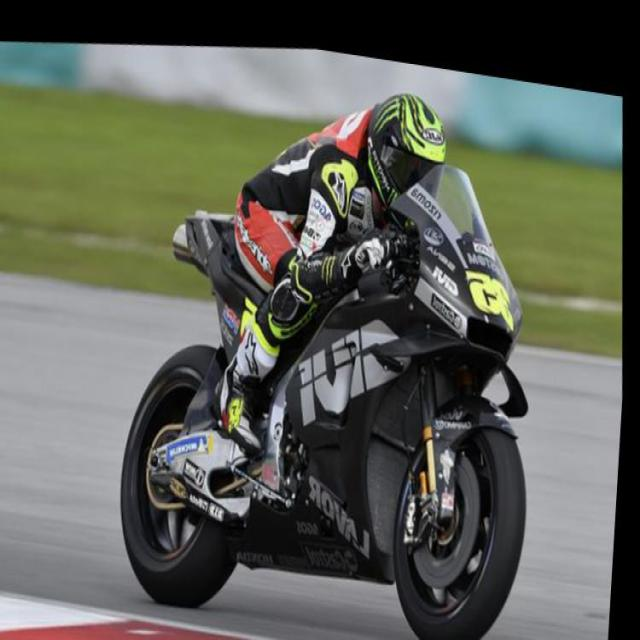HRC RCV 213: (98, 96, 556, 639)
